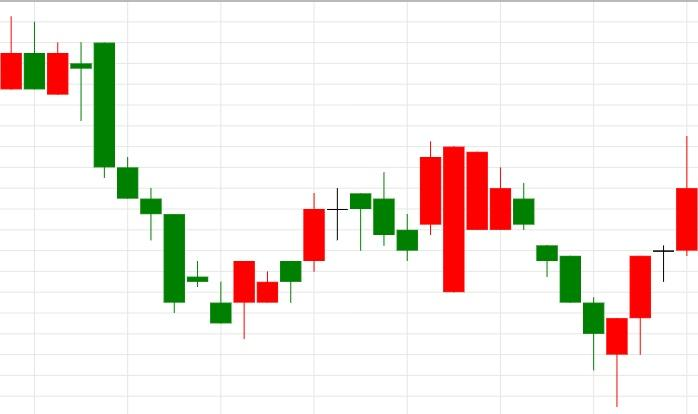hammer_rise: (513, 182, 628, 407)
